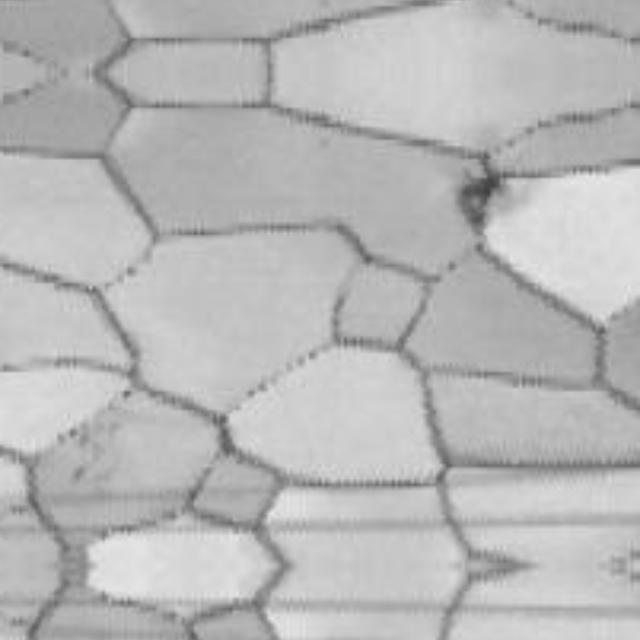good_void: (452, 170, 505, 235)
